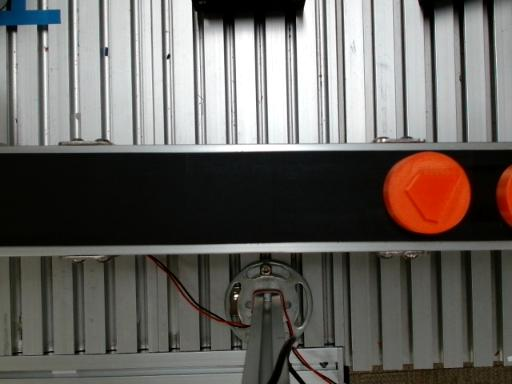Not_Square: (405, 170, 463, 223)
Orange_Waper: (383, 152, 470, 234), (497, 165, 511, 226)
